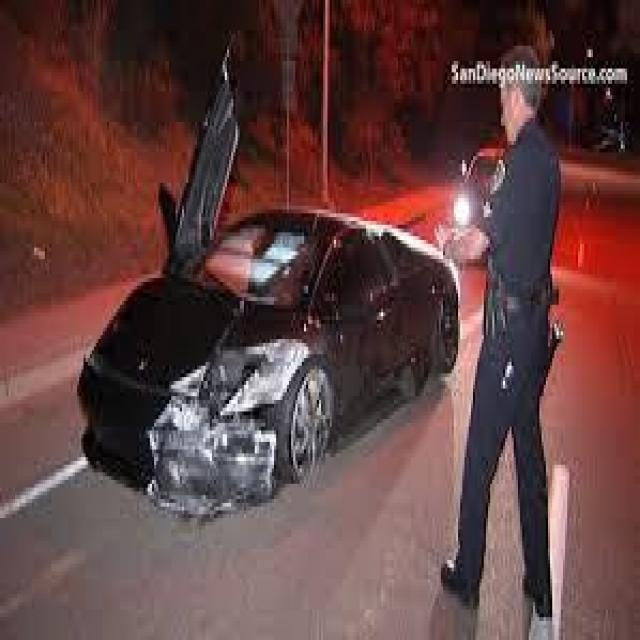damaged: (144, 343, 312, 526)
